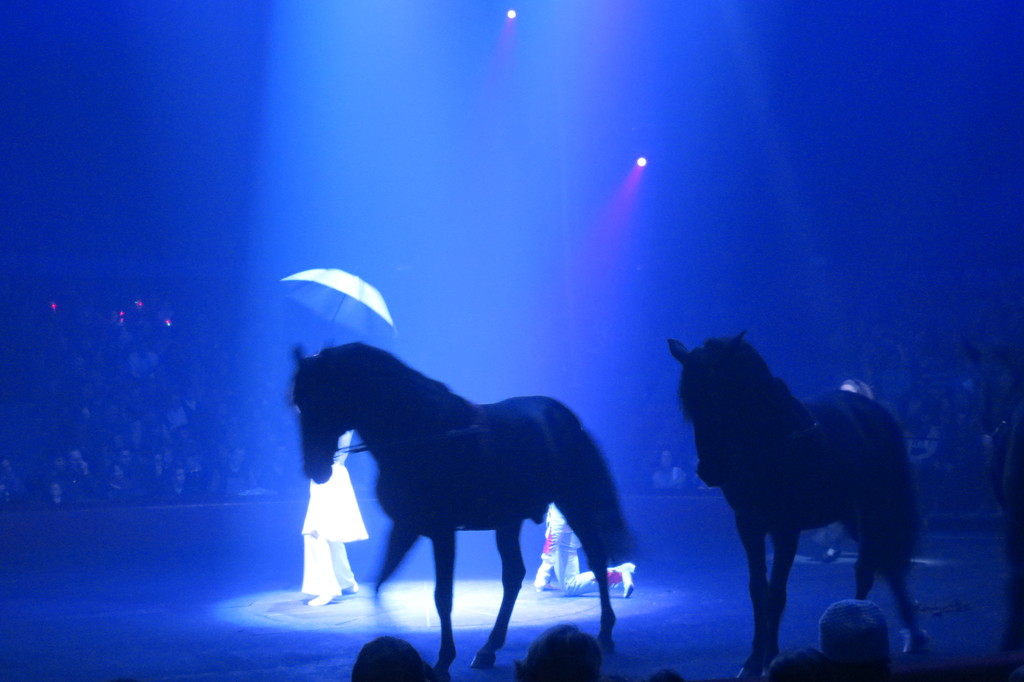horse: (292, 338, 637, 674), (664, 324, 931, 680)
